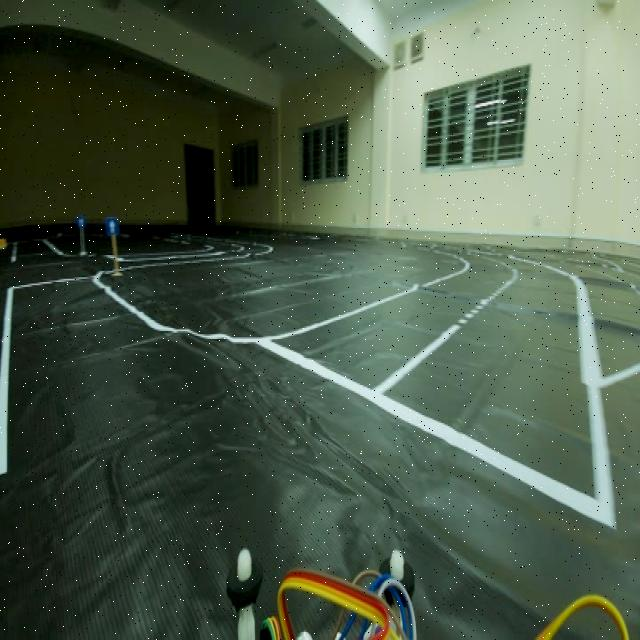onewayroad: (106, 211, 120, 239), (78, 216, 86, 229)
